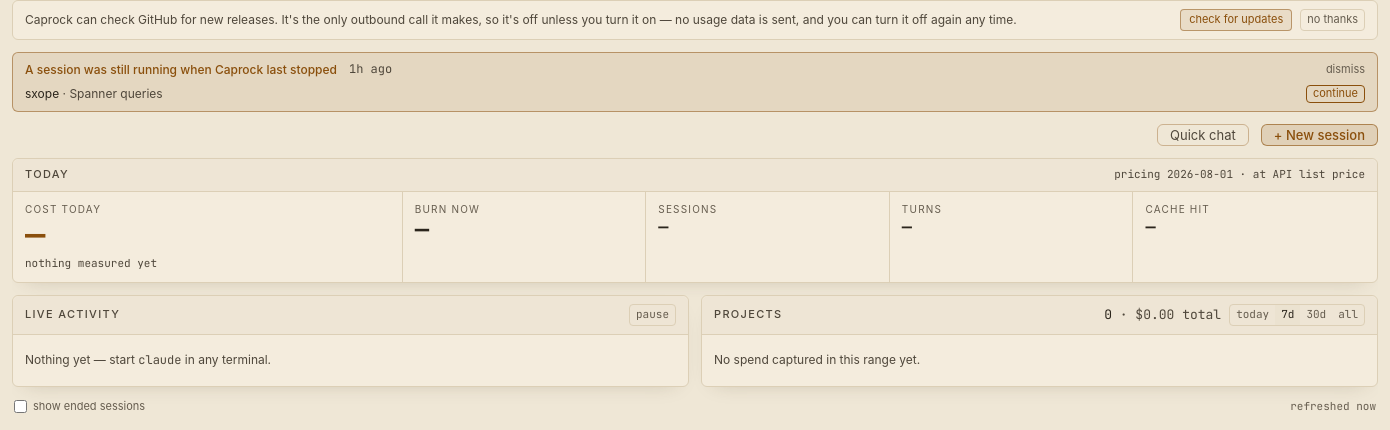
Test: names the sessions a restart cut off, each with continue, until dismissed
The image size is (1390, 430).
Expected: the text "A session was still running when Caprock last stopped" is shown, [25,61,337,78]
Expected: the text "· Spanner queries" is shown, [59,86,163,101]
Click the button "dismiss" at (1345, 70), box [1326,62,1365,78]
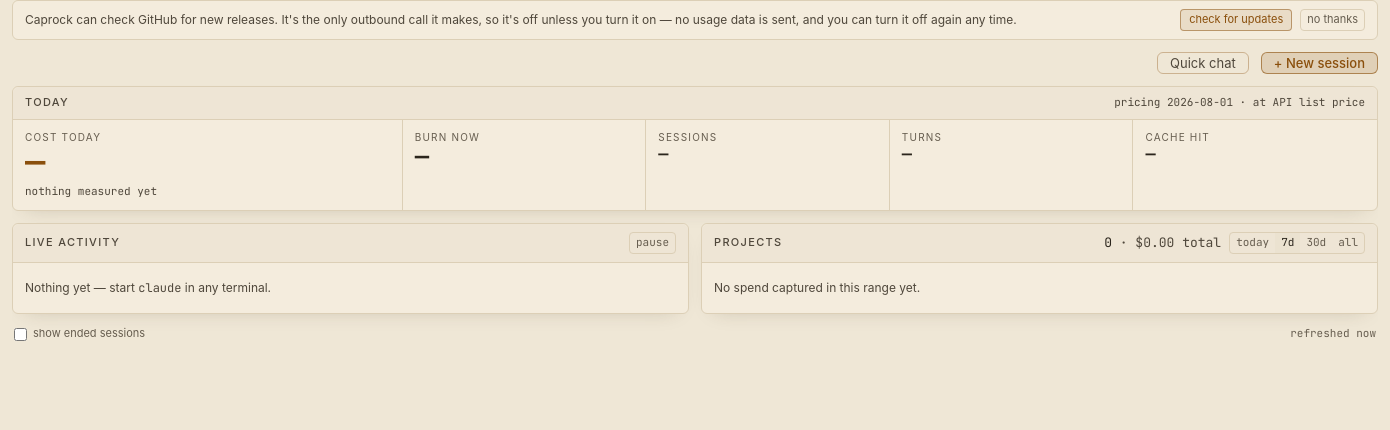
Expected: the text "still running when Caprock last stopped" is gone
